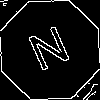N: (24, 24, 77, 81)
